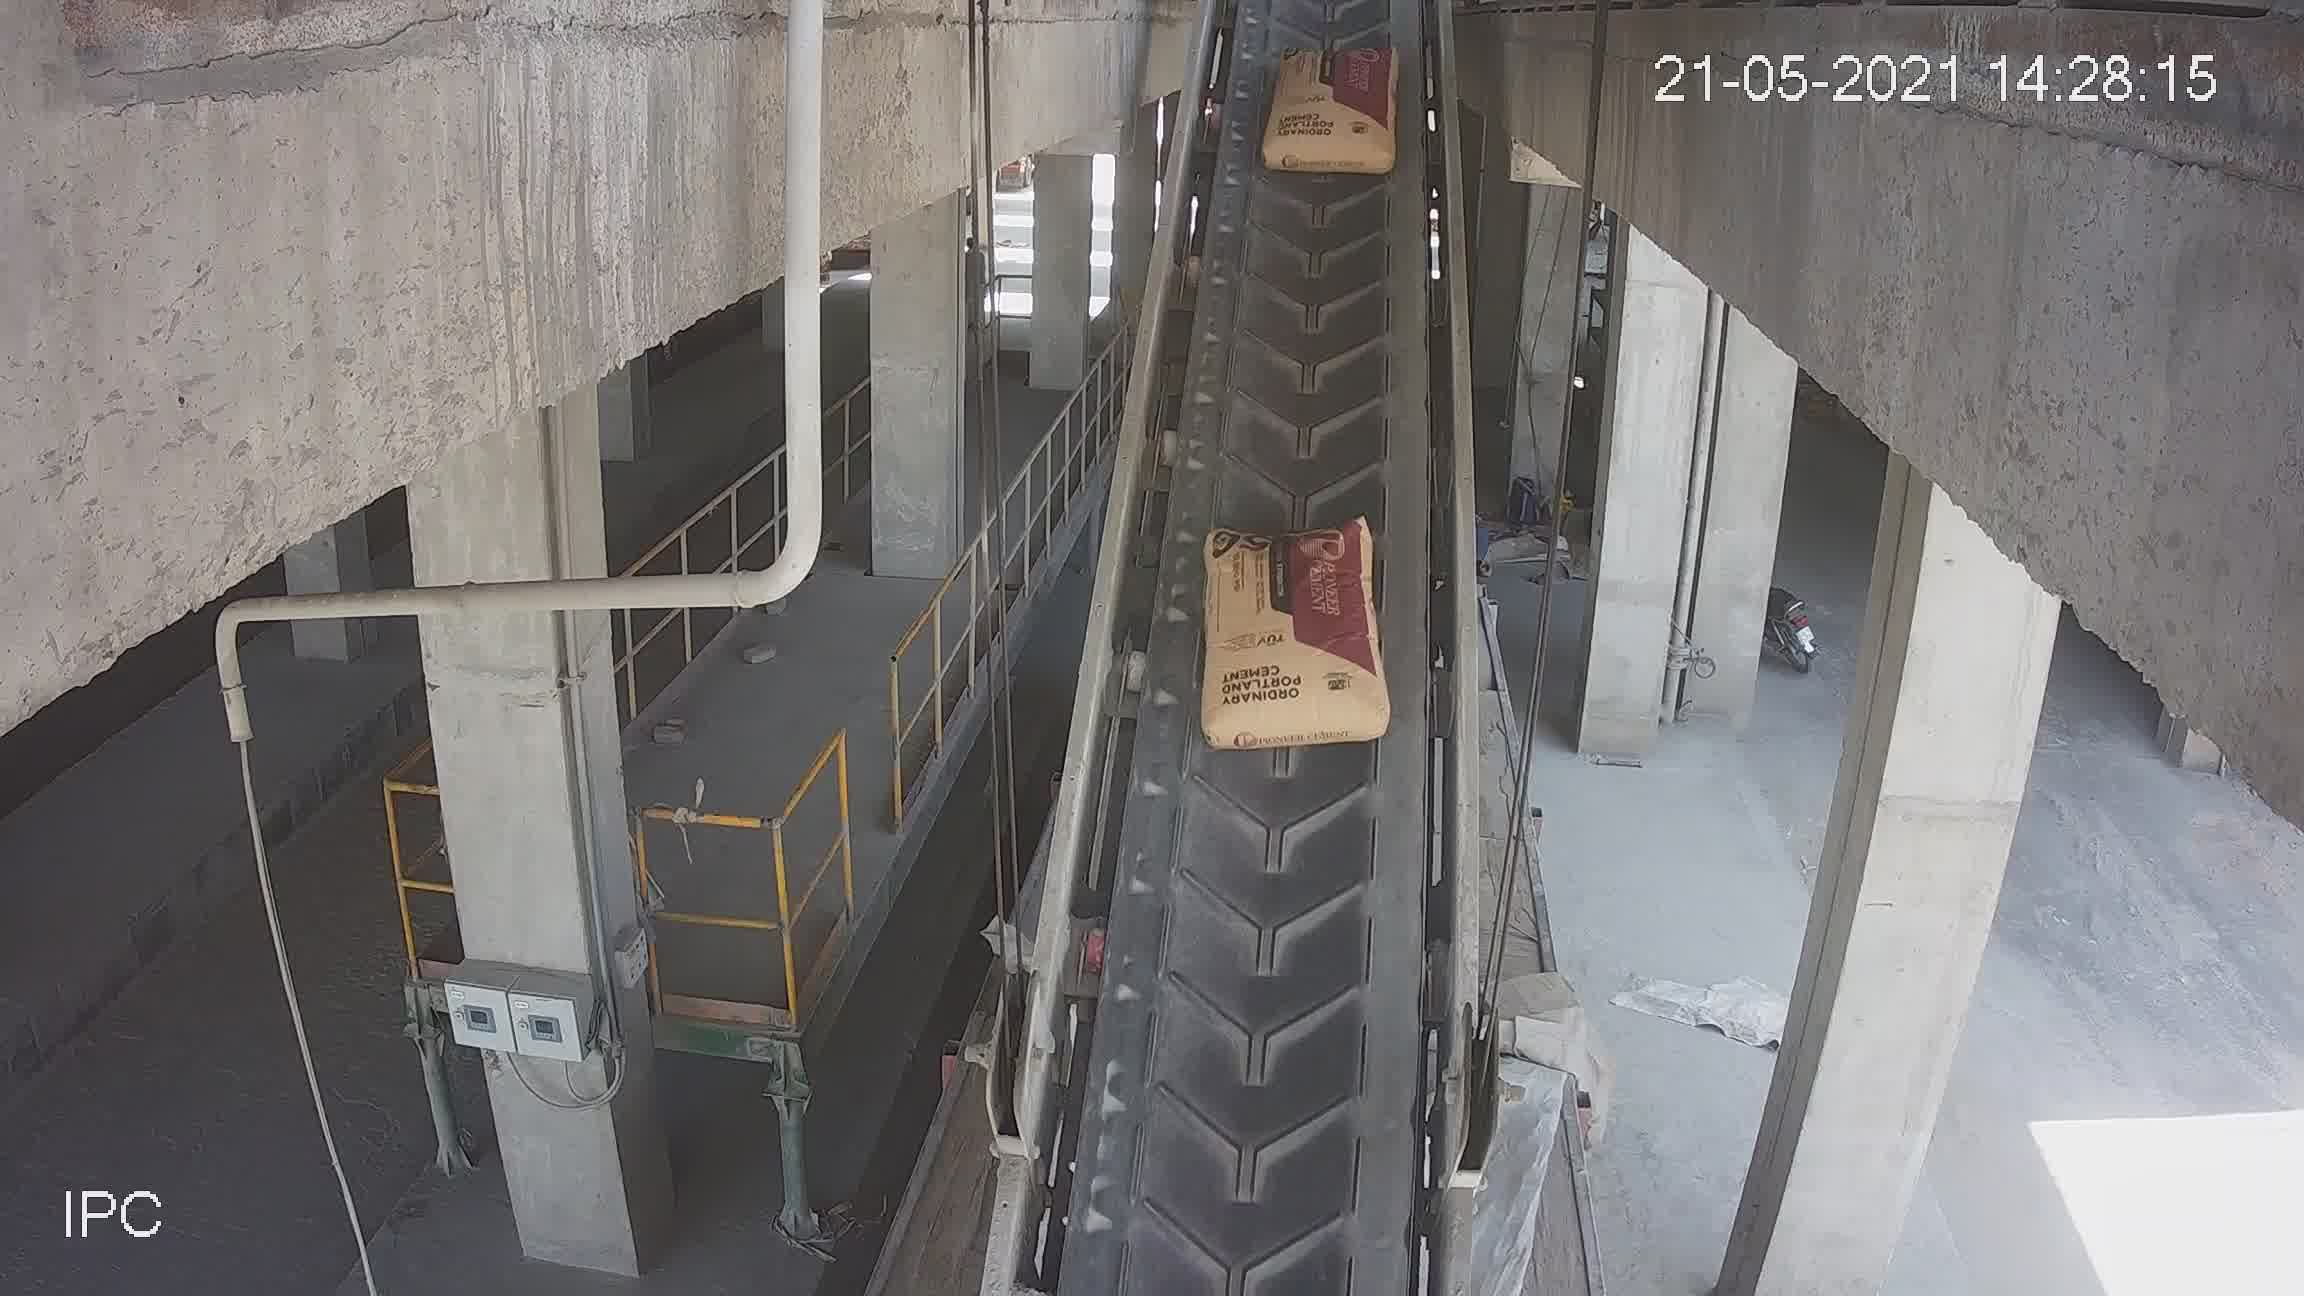bag: (1211, 529, 1370, 753), (1271, 52, 1391, 169)
belt: (1040, 35, 1480, 1256)
